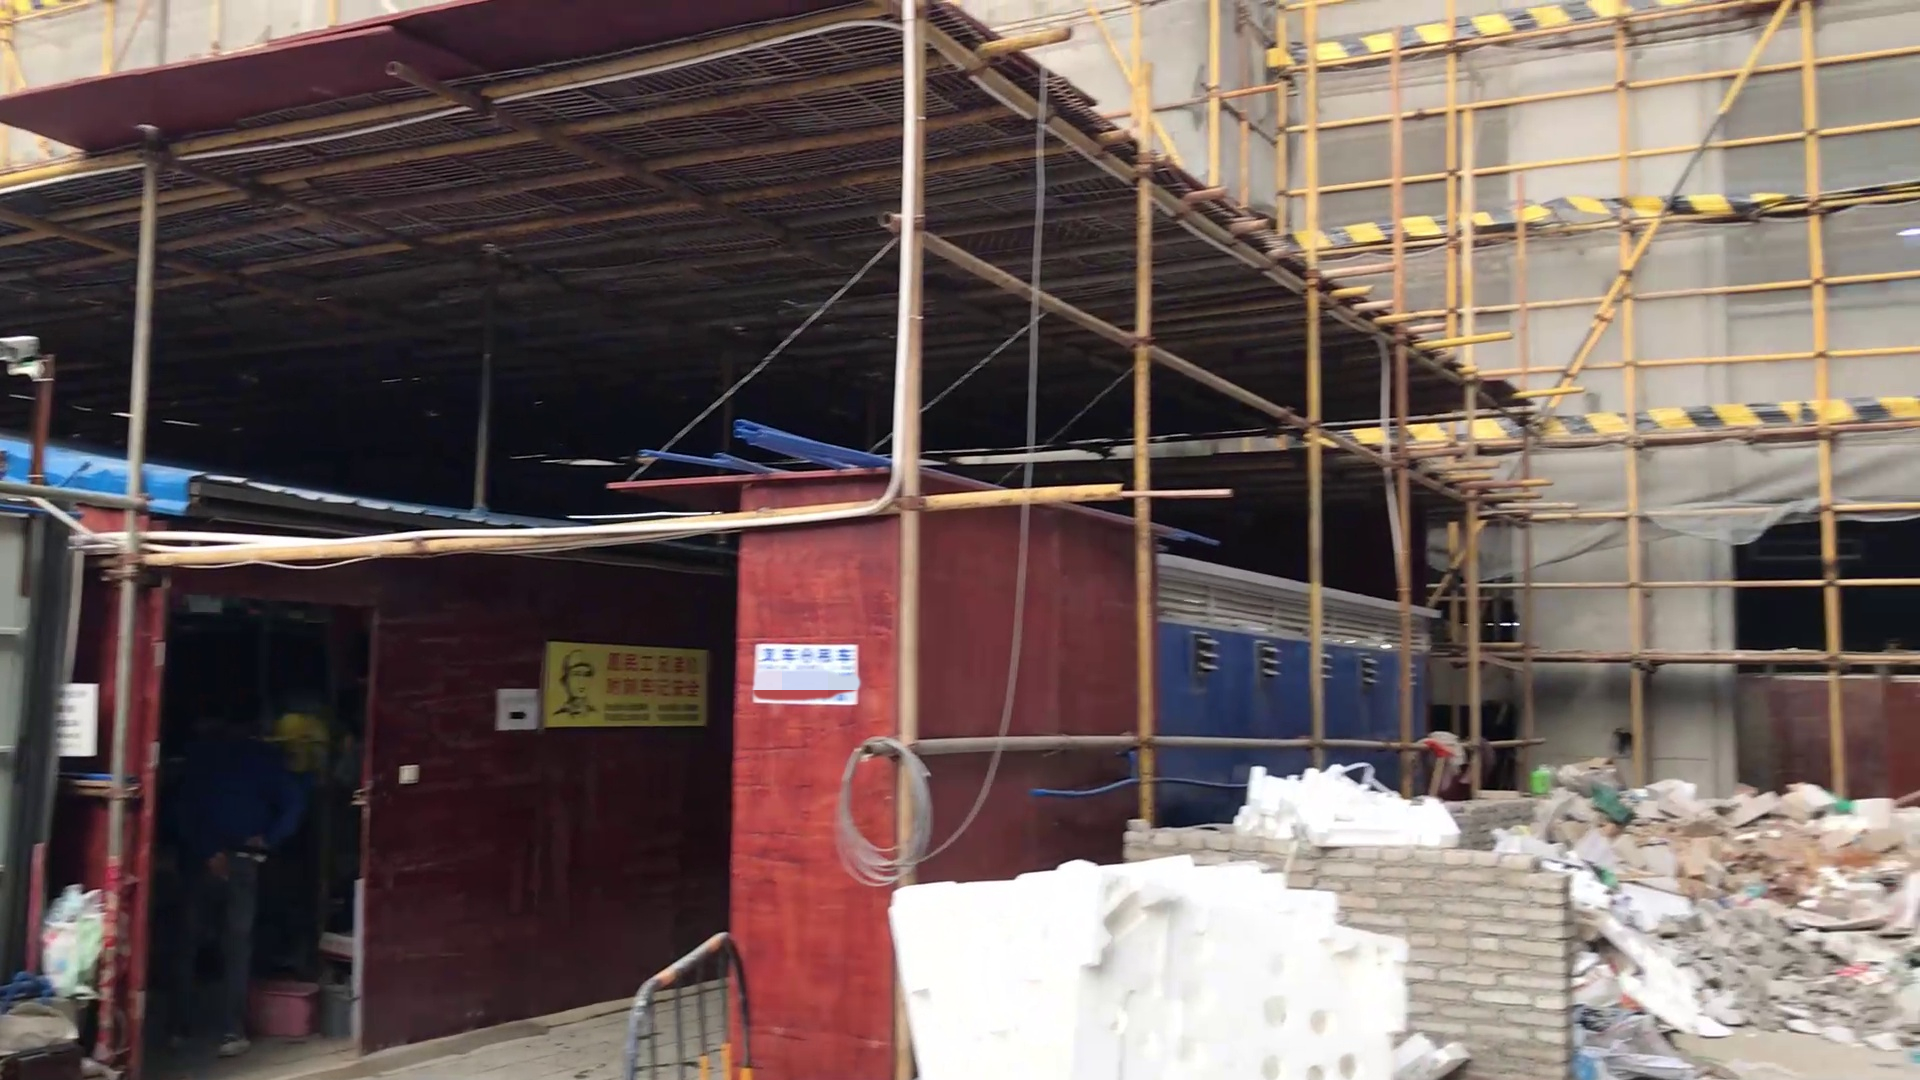slogan: (537, 605, 723, 736)
